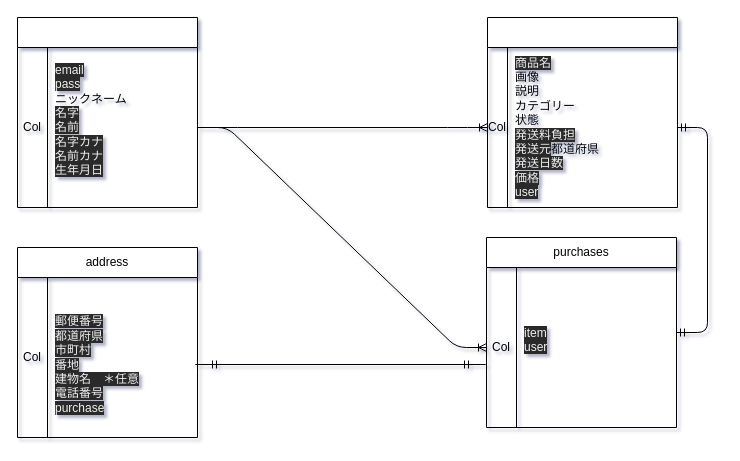
The diagram is 740 pixels wide and 461 high, and some of its shapes have lost their labels. Each missing label, with the box of its shape:
items: (486, 16, 678, 208)
users: (16, 16, 198, 208)
